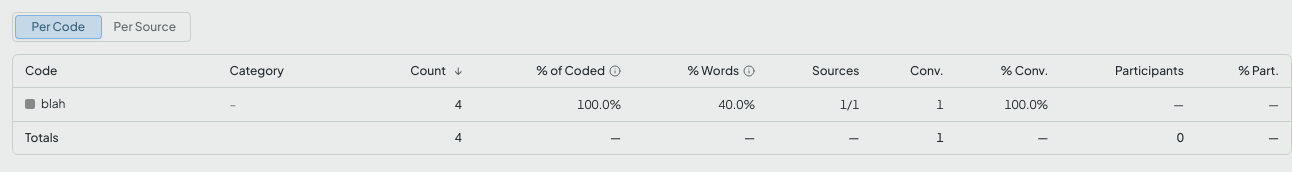
it: the source-kind label is a total map, not a ternary chain › names conversation in the Per Source table
Click the tab "Per Source".
click(145, 27)  # box [102,15,188,39]
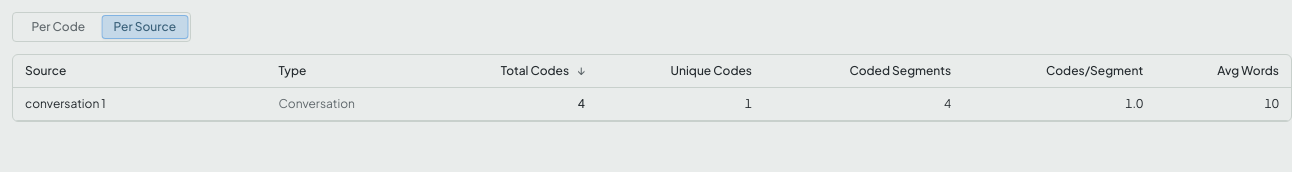
expect the cell "Conversation" is shown: met, box [266,88,426,120]
